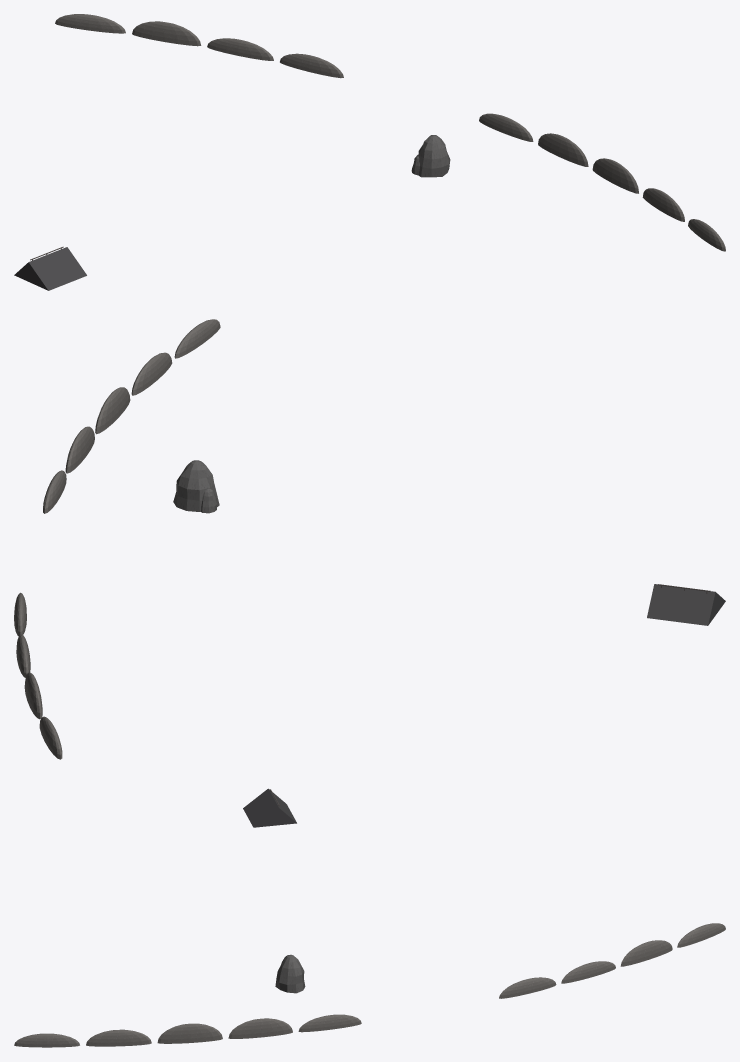
The model's file is SM_City_MukhayyamAlNiran_0.fbx.
The picture shows the model from 3 angles, top to bottom: view 1: azimuth 30°, elevation 25°; view 2: azimuth 150°, elevation 25°; view 3: azimuth 270°, elevation 25°; orthographic projection. The views are drawn at different scales.
Parts seen in each view (by area): view 1: SM_City_MukhayyamAlNiran_0; view 2: SM_City_MukhayyamAlNiran_0; view 3: SM_City_MukhayyamAlNiran_0.
Part boxes in pixels (x1,y1,x2,y2): SM_City_MukhayyamAlNiran_0: (14,14,725,290); SM_City_MukhayyamAlNiran_0: (14,319,725,759); SM_City_MukhayyamAlNiran_0: (14,788,725,1047).
Bounding box in the file's own units: 7200 × 433 × 8899.
4 materials, 4 textured.
